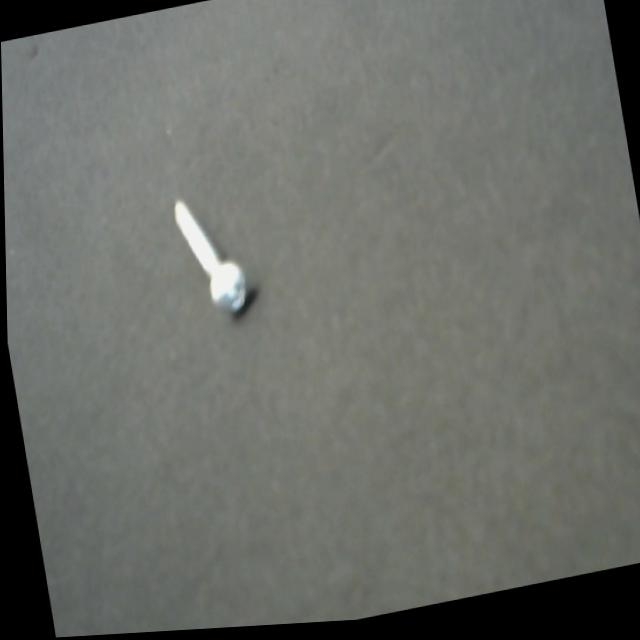SheetMetalScrew: (165, 179, 265, 343)
